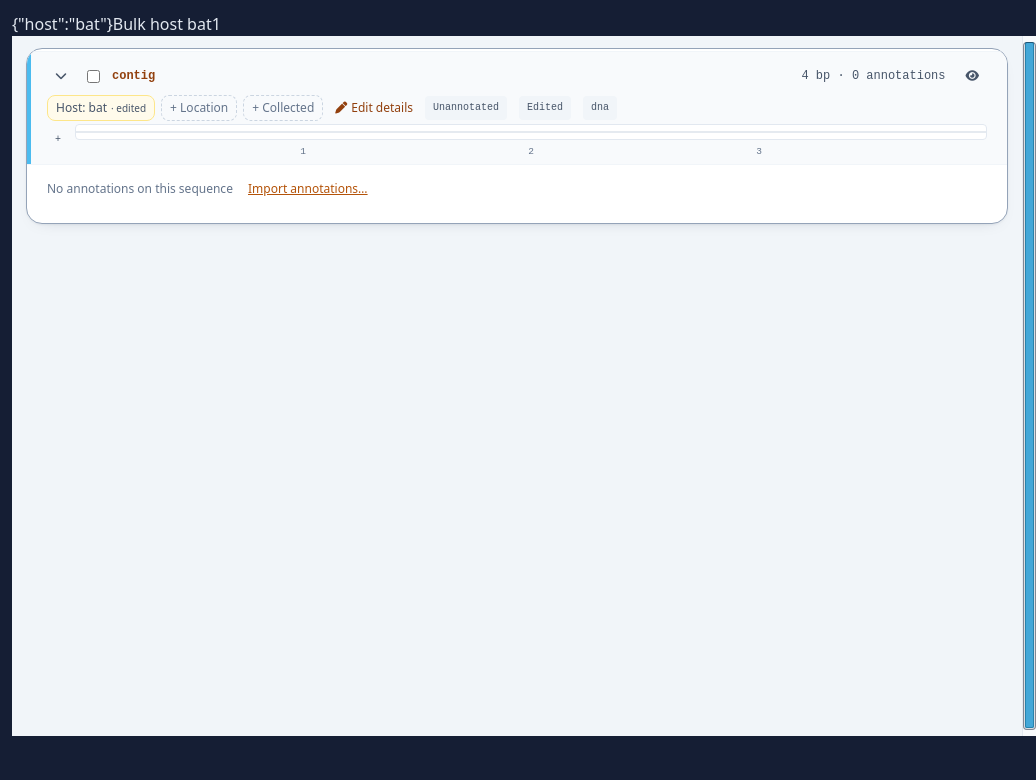
Test: offers a named revert that restores the imported field value
The image size is (1036, 780).
Click the button "Edit details" at (374,108), box [335,96,413,120]
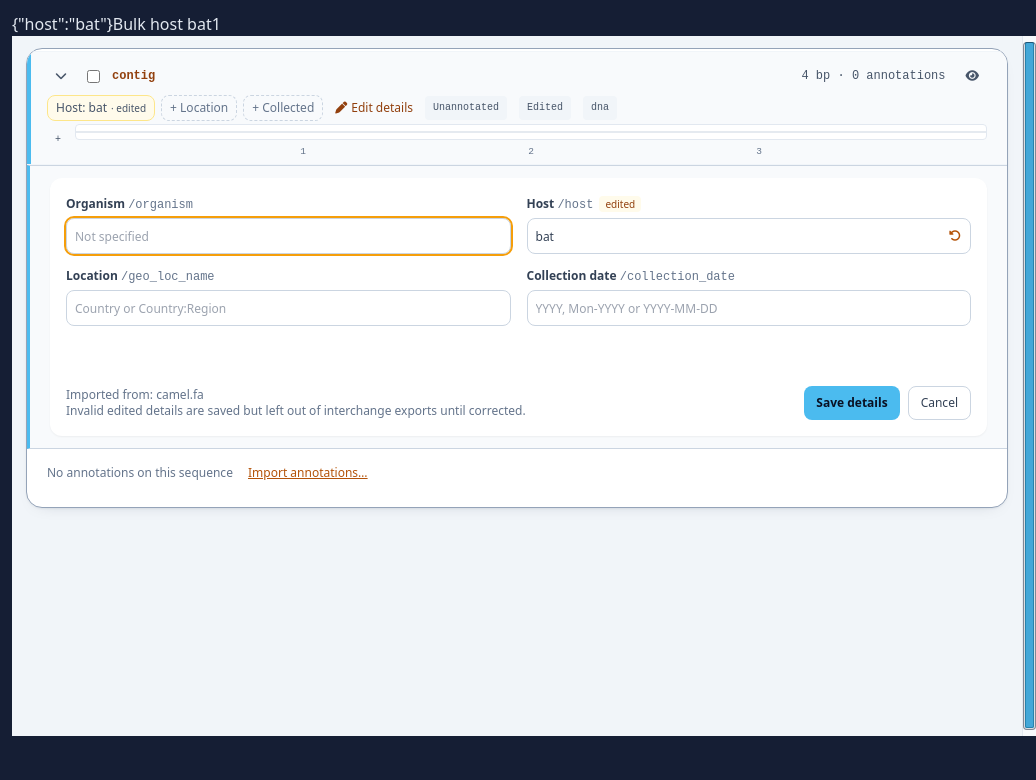
Click the button named "Revert Host to the file's value" at (955,236), box [943,222,967,250]
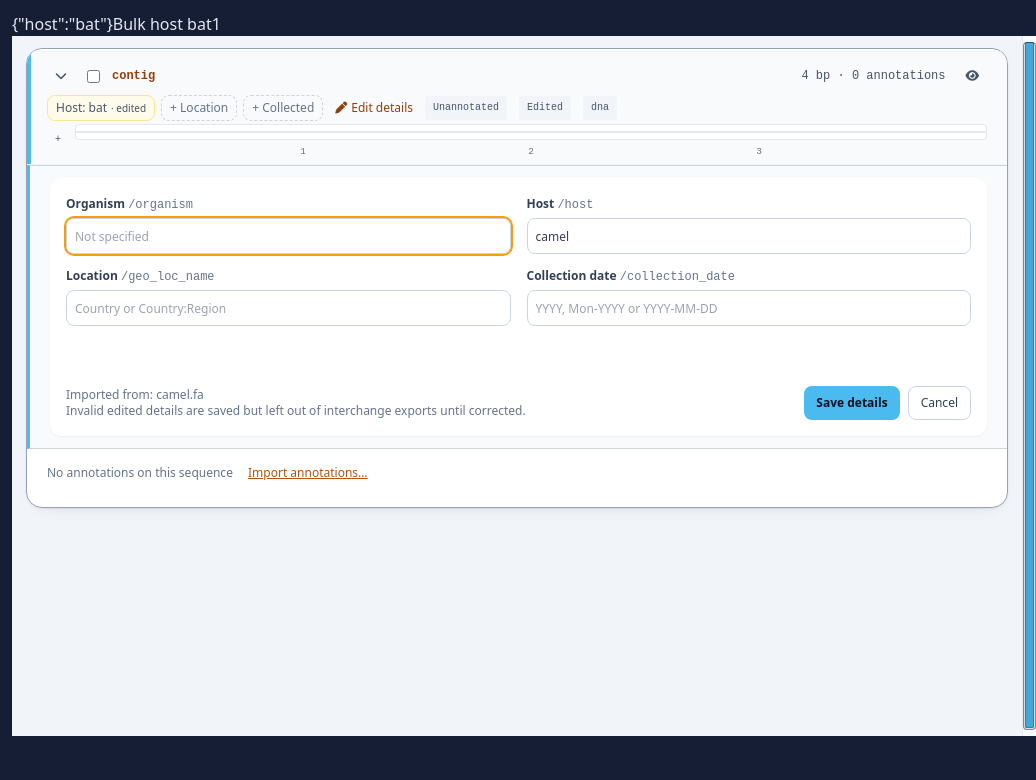
expect the field labelled "Host" holds "camel": met, box [526,218,971,254]
